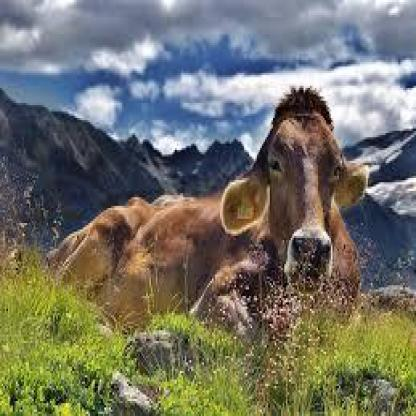cow: (51, 89, 368, 327)
